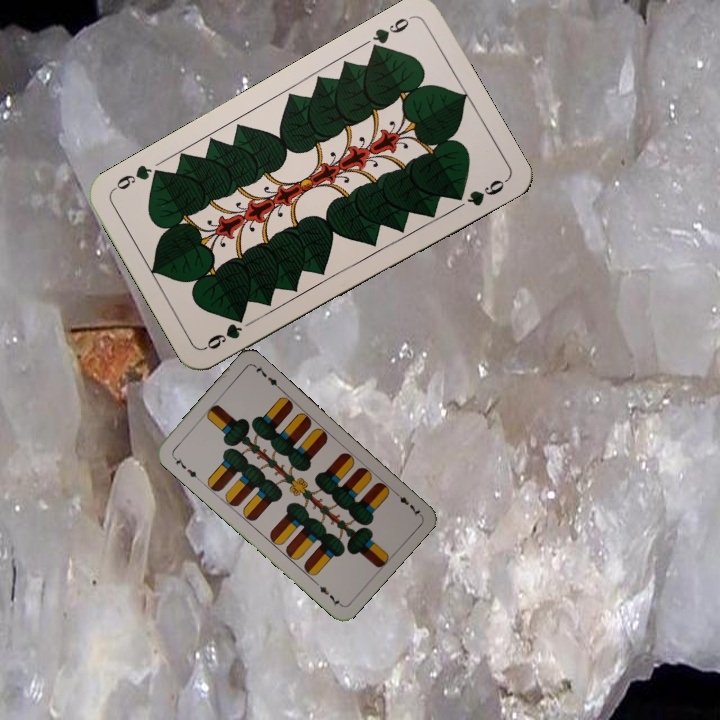E7: (390, 487, 424, 519), (168, 452, 201, 483)
G9: (366, 12, 414, 56), (201, 317, 255, 352)
